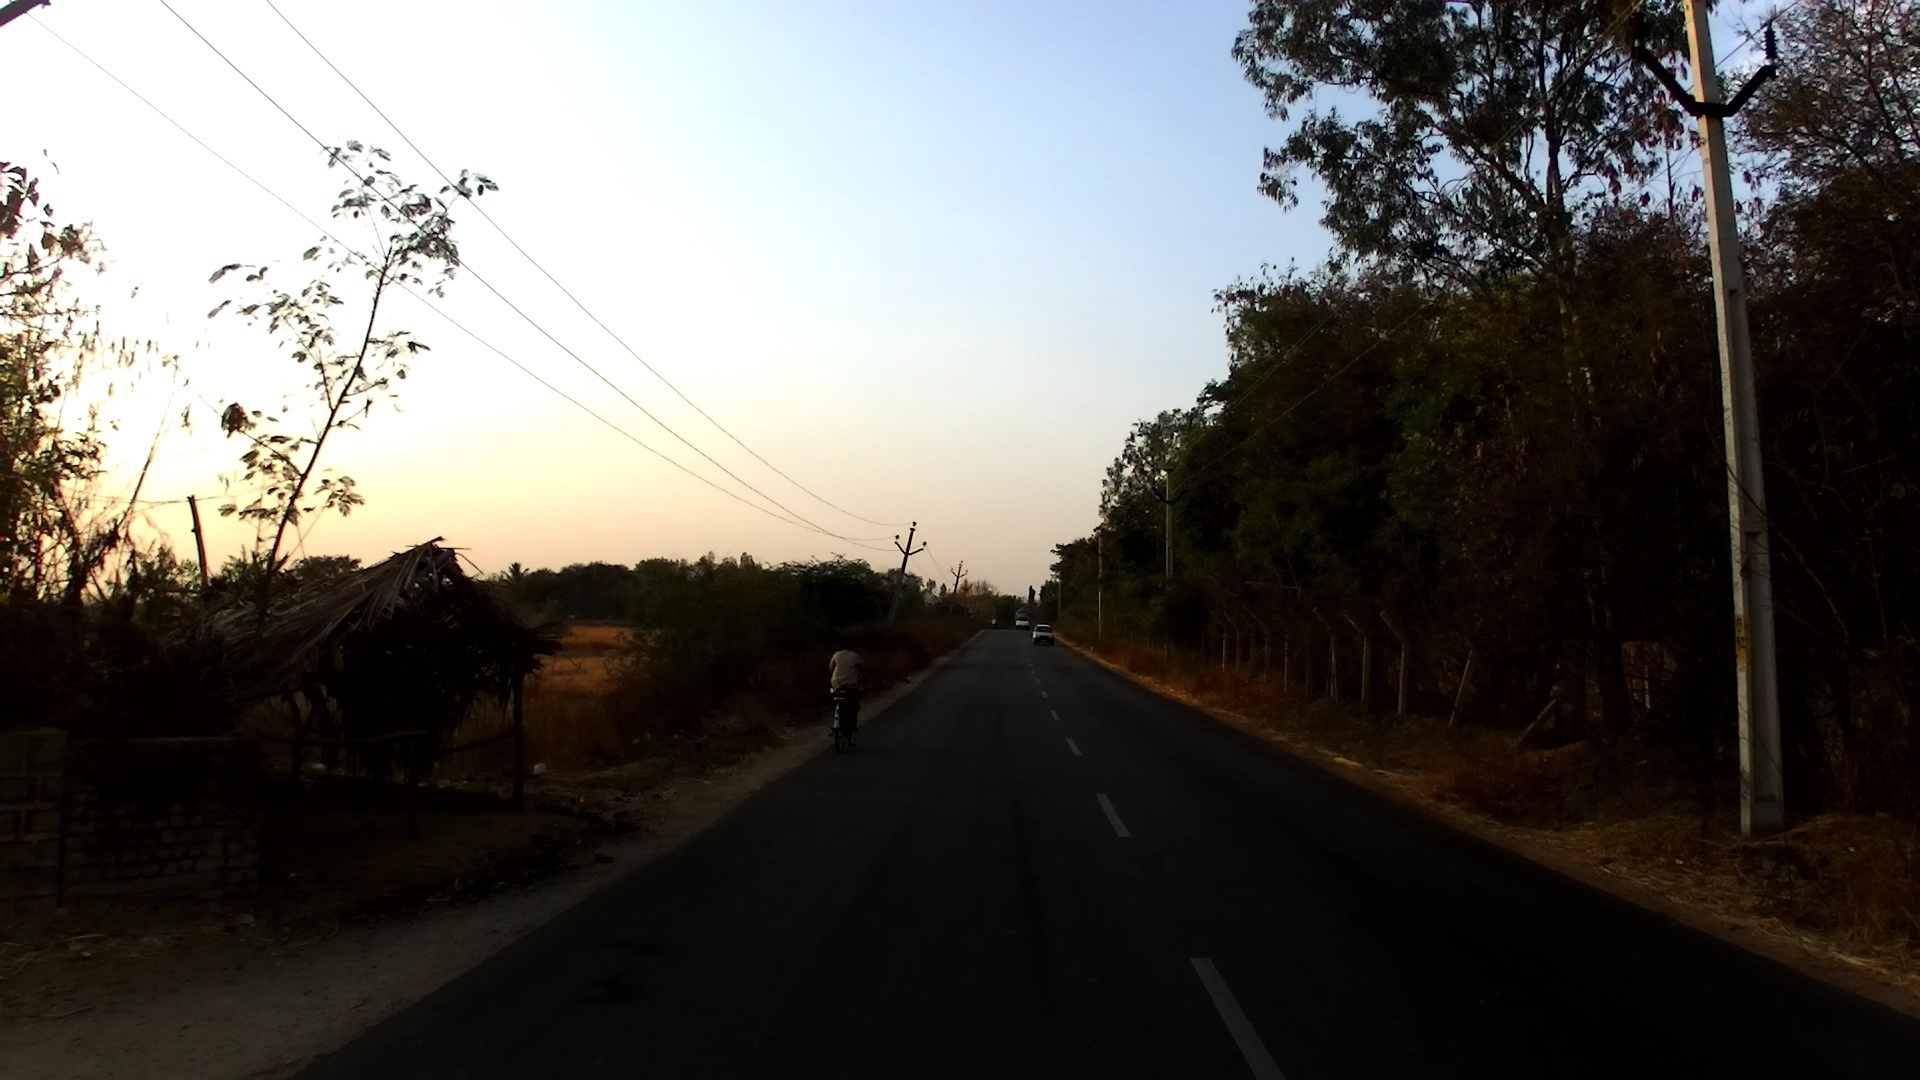bicycle: (825, 675, 872, 756), (990, 621, 998, 629)
car: (1029, 624, 1055, 646), (1013, 613, 1032, 629)
rider: (828, 635, 863, 734), (990, 615, 1000, 626)
